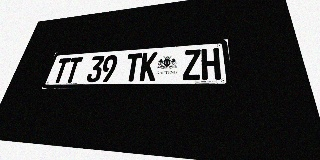3: (86, 55, 105, 82)
9: (99, 55, 119, 82)
H: (201, 48, 221, 80)
K: (139, 52, 158, 81)
T: (123, 53, 142, 82), (63, 57, 83, 83), (51, 58, 71, 83)
Z: (183, 49, 201, 80)
